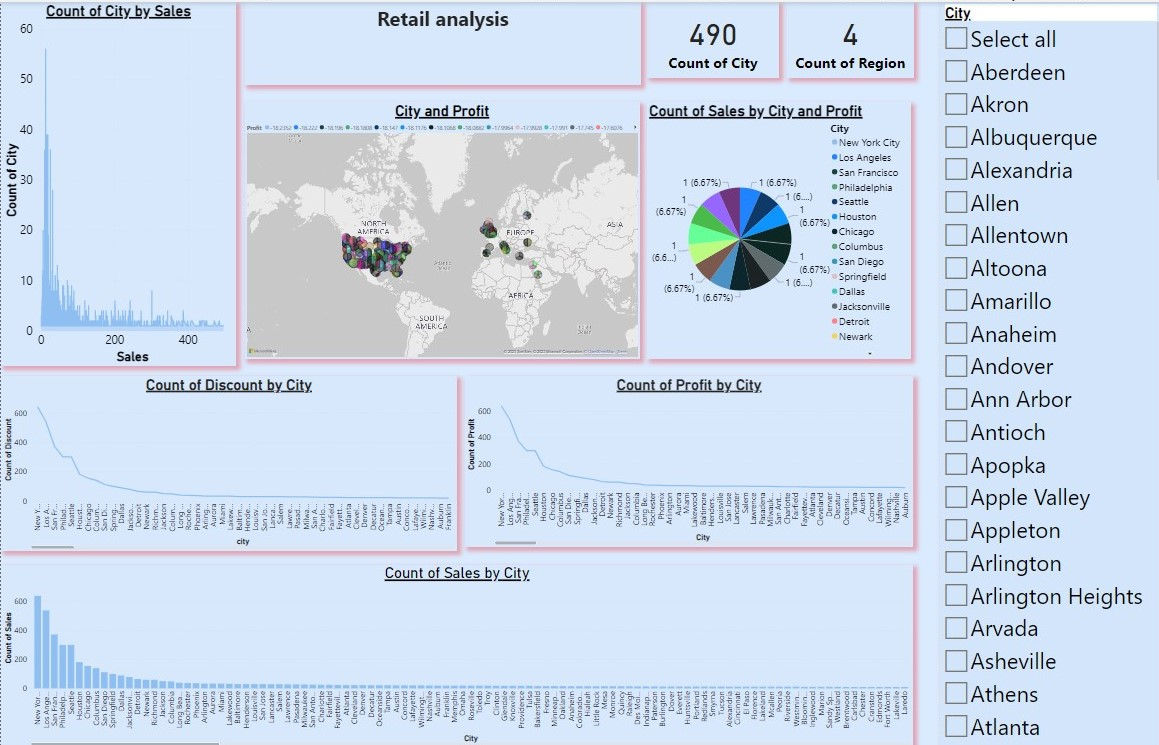

The page's visual inventory and layout, read from the dashboard file:
{"tool":"powerbi","page":{"name":"Page 1","canvas":[2800,1800],"ordinal":0},"visuals":[{"type":"map","title":"City and Profit","fields":{"Category":["Retail.City"],"Series":["Retail.Profit"]},"box":[587.5,240,952.5,620],"z":0},{"type":"columnChart","fields":{"Category":["Retail.City"],"Y":["CountNonNull(Retail.Sales)"]},"box":[0,1357.5,2200,442.5],"z":1000},{"type":"card","fields":{"Values":["Count(Retail.City)"]},"box":[1557.5,0,317.5,182.5],"z":2000},{"type":"card","fields":{"Values":["Count(Retail.Region)"]},"box":[1895,0,305,182.5],"z":3000},{"type":"pieChart","fields":{"Category":["Retail.City"],"Y":["CountNonNull(Retail.Sales)"],"Series":["Retail.Profit"]},"box":[1557.5,240,635,620],"z":4000},{"type":"lineChart","fields":{"Category":["Retail.City"],"Y":["CountNonNull(Retail.Discount)"]},"box":[0,900,1100,422.5],"z":5000},{"type":"lineChart","fields":{"Category":["Retail.City"],"Y":["CountNonNull(Retail.Profit)"]},"box":[1117.5,900,1082.5,412.5],"z":6000},{"type":"areaChart","fields":{"Category":["Retail.Sales"],"Y":["CountNonNull(Retail.City)"]},"box":[0,0,567.5,877.5],"z":7000},{"type":"textbox","box":[587.5,0,955,200],"z":8000},{"type":"slicer","fields":{"Values":["Retail.City"]},"box":[2264.3,0,536.7,1800],"z":8001}]}

Visuals, with their boxes in screenshot pixels (x1, y1, x2, y2), scaled from the page's 2800x1800 canvas onto the 1159x745 screenshot:
"City and Profit" map: box=[243, 99, 637, 356]
columnChart - Retail.City x CountNonNull(Retail.Sales): box=[0, 562, 911, 744]
card - Count(Retail.City): box=[645, 0, 776, 76]
card - Count(Retail.Region): box=[784, 0, 911, 76]
pieChart - Retail.City x CountNonNull(Retail.Sales): box=[645, 99, 908, 356]
lineChart - Retail.City x CountNonNull(Retail.Discount): box=[0, 372, 455, 547]
lineChart - Retail.City x CountNonNull(Retail.Profit): box=[463, 372, 911, 543]
areaChart - Retail.Sales x CountNonNull(Retail.City): box=[0, 0, 235, 363]
textbox: box=[243, 0, 638, 83]
slicer - Retail.City: box=[937, 0, 1158, 744]
